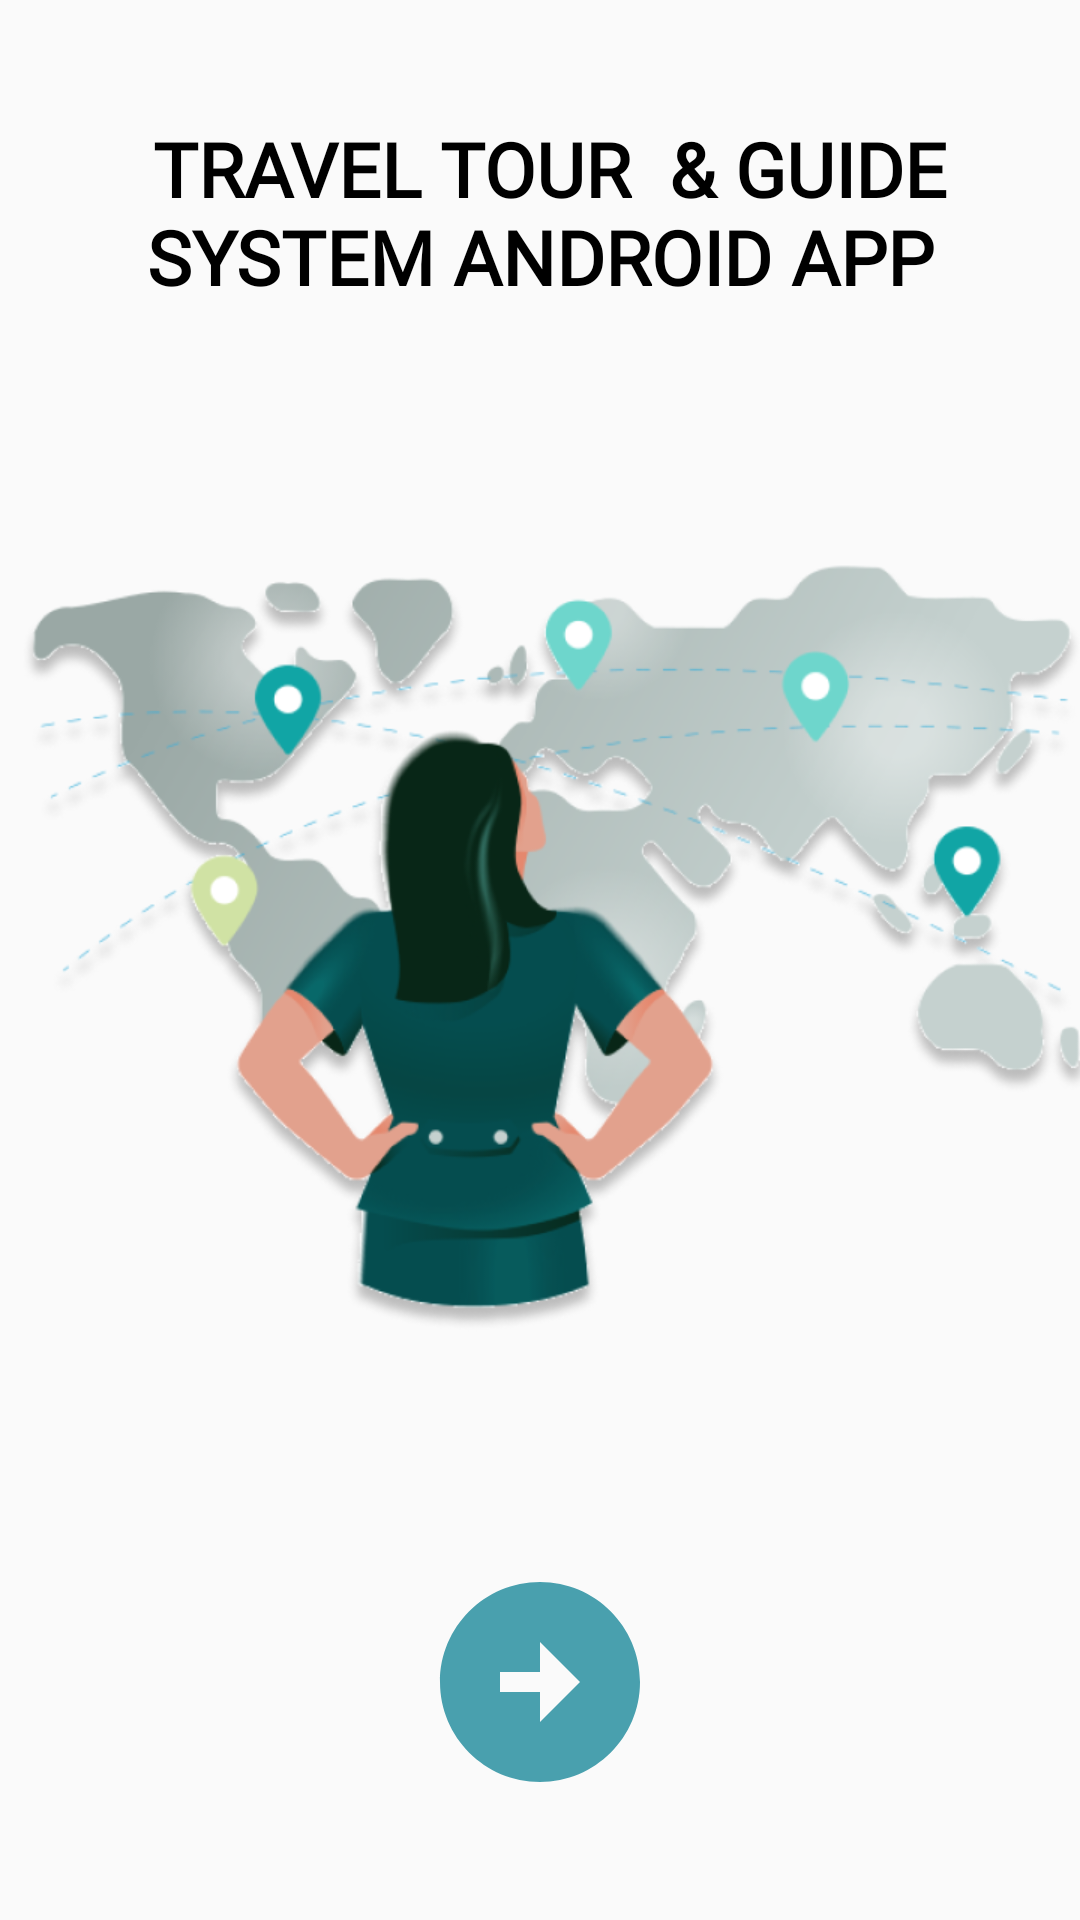

Icon bounding boxes for this 1080x1920 phone screenshot, format (x1, y1, x2, y2):
arrow circle right: (440, 1582, 640, 1782)
